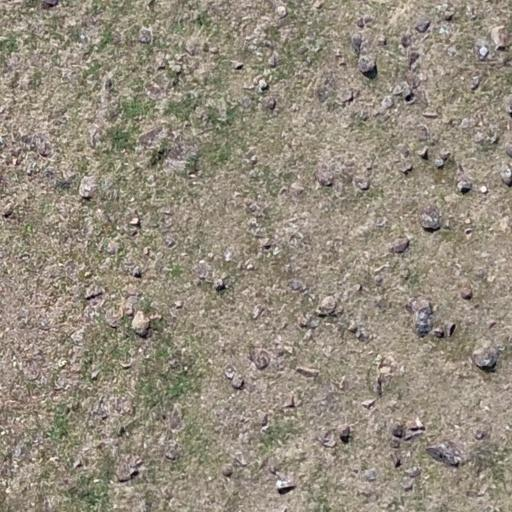stone: (406, 298, 436, 339), (424, 440, 464, 466), (471, 344, 501, 370), (374, 354, 400, 383), (420, 205, 443, 233), (116, 459, 142, 483), (248, 346, 274, 370), (314, 77, 336, 104), (314, 162, 336, 187), (78, 174, 98, 200), (490, 24, 510, 50), (131, 311, 150, 338), (315, 295, 336, 316), (474, 39, 493, 62), (354, 56, 378, 74), (318, 429, 338, 449), (184, 36, 204, 56), (389, 236, 410, 254), (104, 307, 122, 328), (122, 294, 140, 314), (404, 70, 422, 90), (298, 314, 320, 330), (352, 174, 371, 192), (84, 284, 105, 300), (275, 478, 296, 494), (295, 366, 321, 378), (350, 32, 364, 54), (138, 26, 154, 45), (458, 282, 474, 300), (414, 17, 432, 33), (414, 124, 430, 142), (473, 130, 491, 146), (499, 164, 512, 186), (456, 178, 473, 194), (154, 53, 169, 71), (398, 159, 414, 175), (251, 304, 267, 320), (282, 394, 298, 410), (406, 50, 420, 68), (338, 425, 352, 443), (339, 89, 355, 104), (290, 181, 306, 196), (164, 445, 180, 460), (231, 374, 245, 390), (2, 202, 16, 218), (288, 278, 304, 292), (391, 423, 405, 439), (404, 466, 422, 478), (416, 145, 430, 160), (396, 143, 410, 158), (443, 322, 456, 338), (459, 117, 475, 130), (400, 33, 413, 49), (391, 452, 403, 469), (380, 95, 394, 109), (364, 468, 378, 482), (360, 398, 376, 410), (392, 84, 406, 97), (170, 62, 184, 75), (265, 96, 277, 111), (214, 278, 227, 291), (403, 93, 417, 105), (402, 478, 414, 492), (224, 366, 236, 380), (267, 53, 278, 68), (470, 75, 481, 90), (347, 320, 359, 333), (443, 9, 455, 22), (275, 5, 287, 18), (258, 78, 269, 92), (221, 466, 233, 478), (421, 110, 439, 118), (72, 458, 84, 470), (434, 157, 445, 169), (312, 1, 325, 11), (129, 216, 141, 226), (261, 241, 273, 251), (474, 430, 486, 440), (261, 414, 269, 428), (377, 35, 387, 46), (356, 17, 366, 28), (132, 267, 142, 278), (478, 184, 489, 194), (249, 154, 258, 166), (90, 370, 100, 380), (209, 45, 219, 54), (400, 270, 410, 279), (246, 205, 258, 212), (234, 62, 244, 70), (173, 300, 183, 308), (390, 440, 400, 448), (355, 282, 363, 292), (244, 198, 254, 205), (166, 238, 174, 246), (144, 247, 150, 256), (85, 272, 92, 277)
